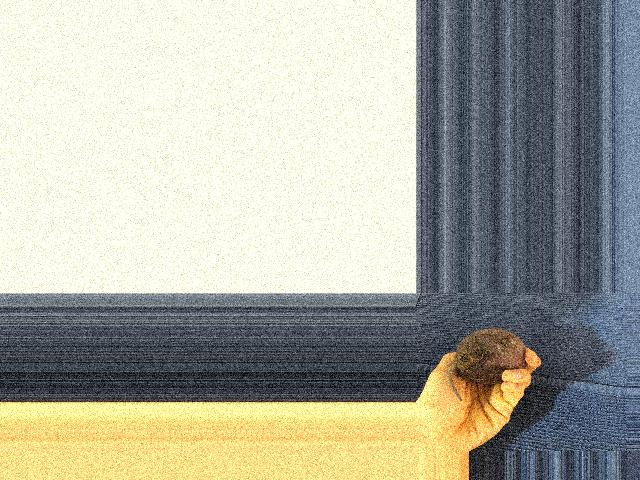beet: (448, 329, 526, 402)
